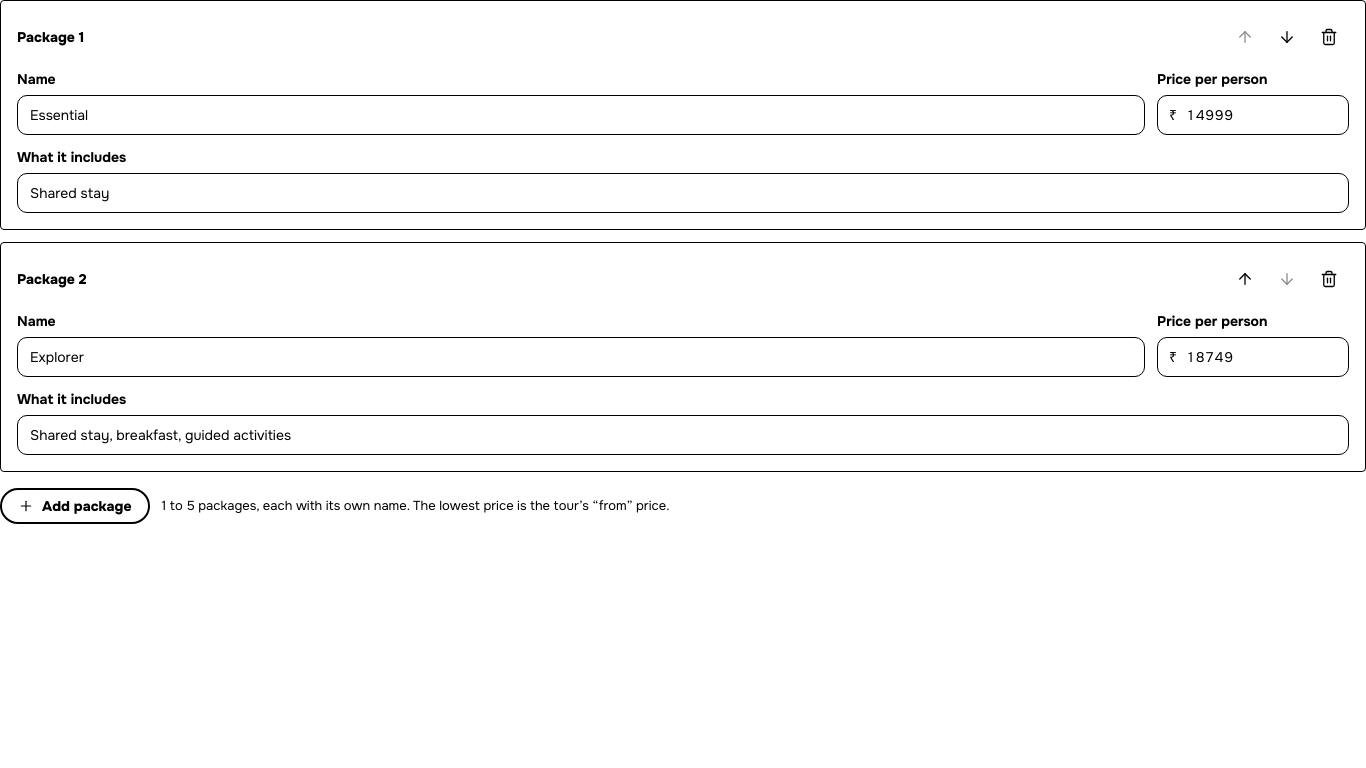
TierEditor › adds packages up to five and says so
This screenshot has width=1366, height=768.
Click the button "Add package".
click(75, 506)  # box x1=0 y1=488 x2=150 y2=524
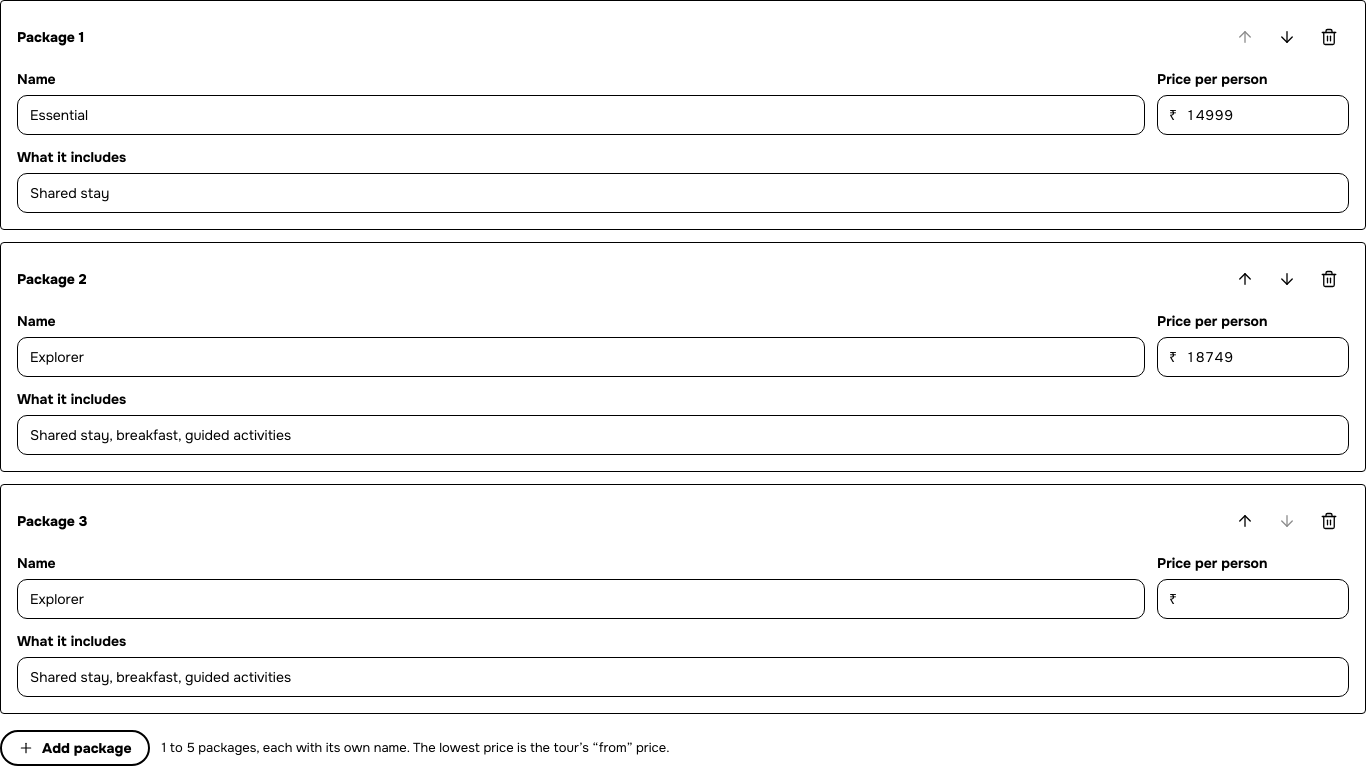
Click the button "Add package".
click(75, 748)  # box x1=0 y1=730 x2=150 y2=766
(page scrolled)
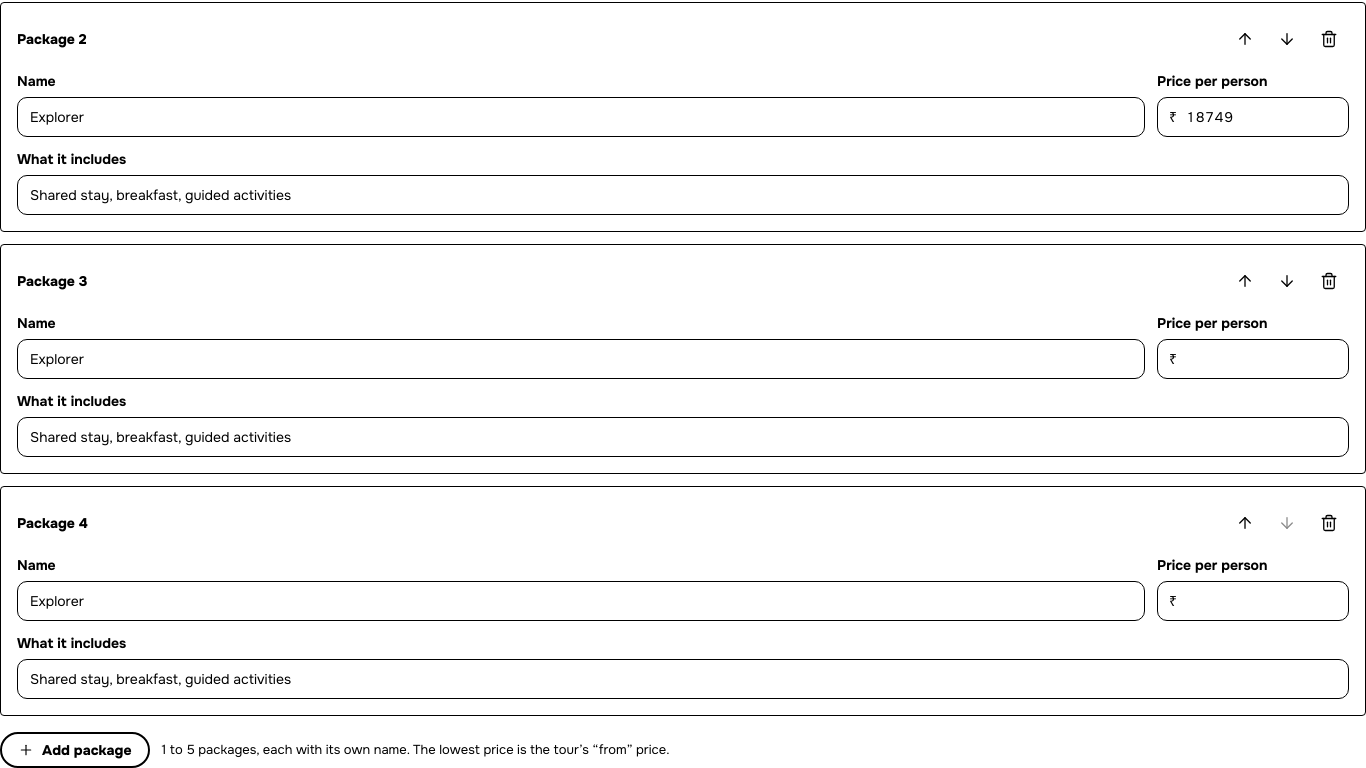
Click the button "Add package".
click(75, 750)  # box x1=0 y1=732 x2=150 y2=767
(page scrolled)
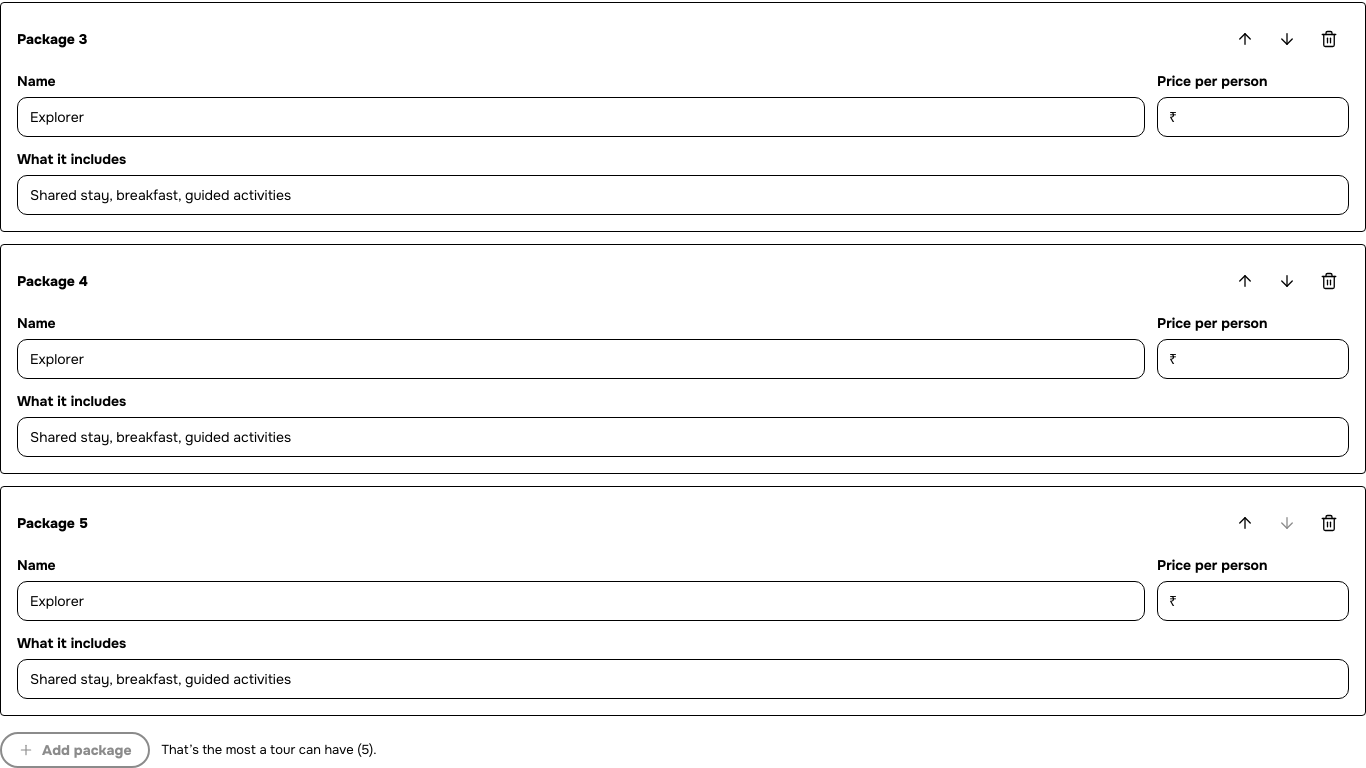
Result: the button "Add package" is disabled at x1=0 y1=732 x2=150 y2=767
Result: the text "That’s the most a tour can have (5)." is shown at x1=162 y1=741 x2=377 y2=759
